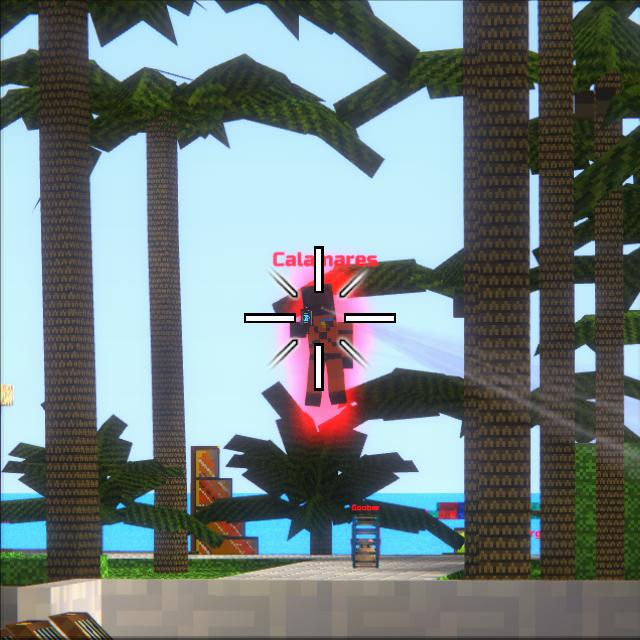Enemy: (290, 283, 354, 407)
